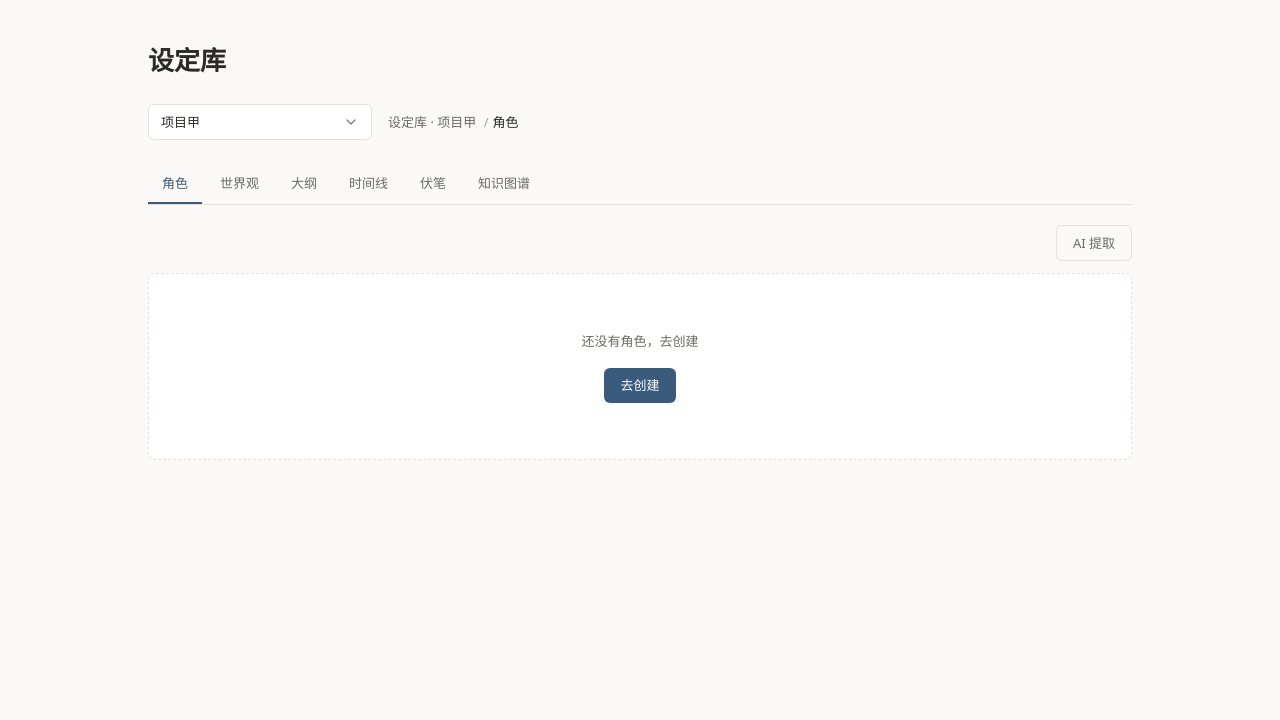
Test: 地图工作台修复契约（#973 快照刷新 / #978 删除钮重叠 / #979 pin 标签与点击） › P1【R】画布 pin 可见 label 文本 + pointer-events-auto（现状图标-only + pointer-events-none）
Click the tab "世界观".
click(240, 184)  # box [206, 164, 273, 204]
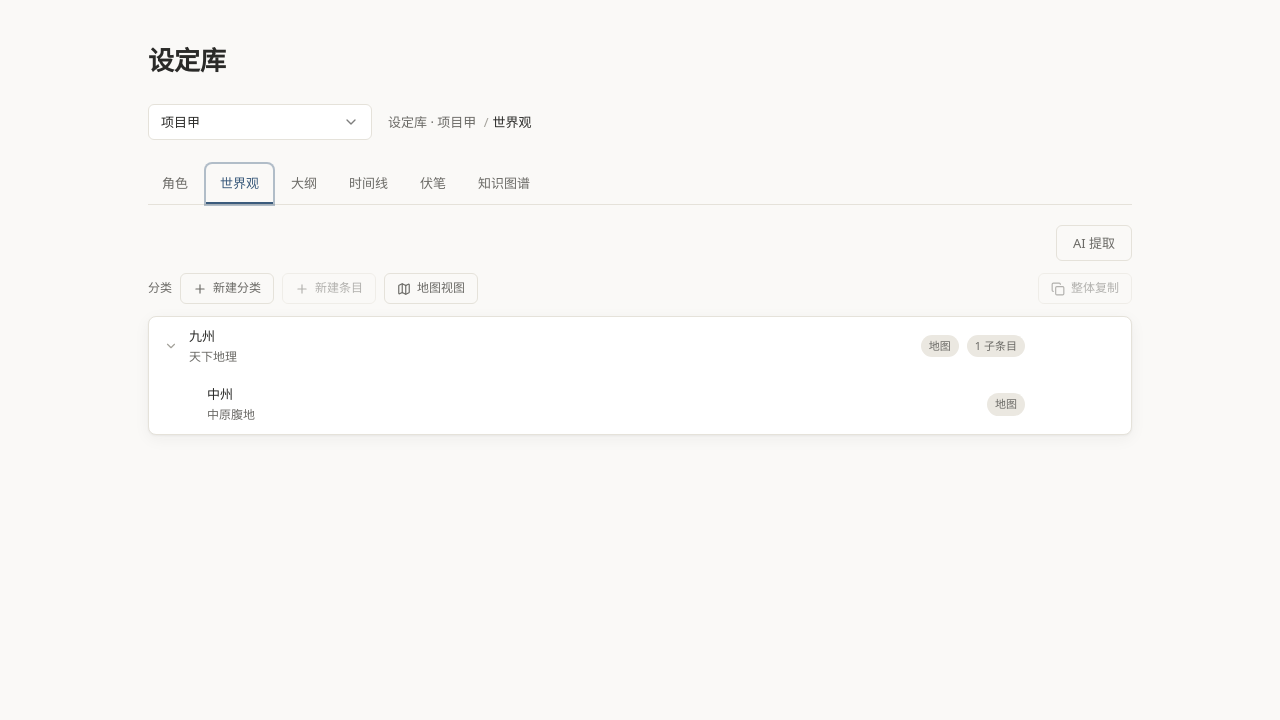
Now the element with test id "library-list" is shown, box [148, 316, 1132, 435]
Click the button with test id "map-view-entry".
click(431, 289)  # box [384, 273, 478, 304]
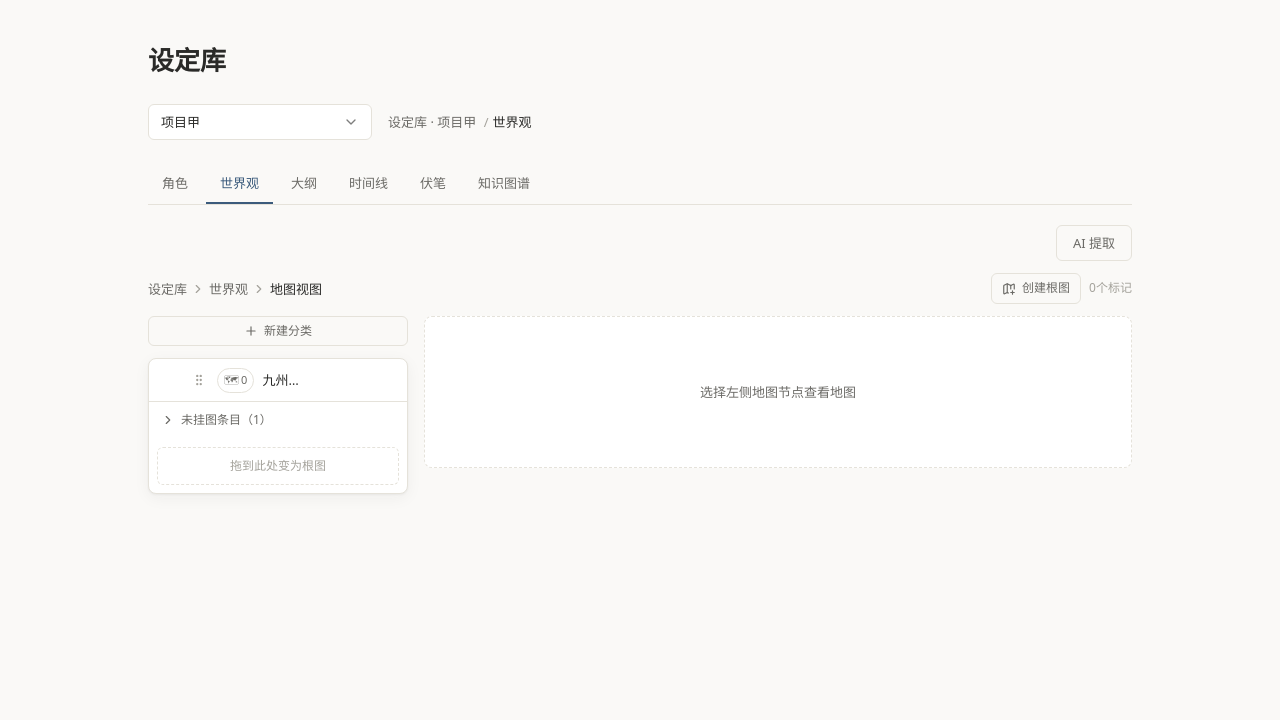
Now the element with test id "map-workbench" is shown, box [148, 273, 1132, 506]
Click the button with test id "world-map-badge-w1".
click(236, 380)  # box [217, 368, 254, 392]
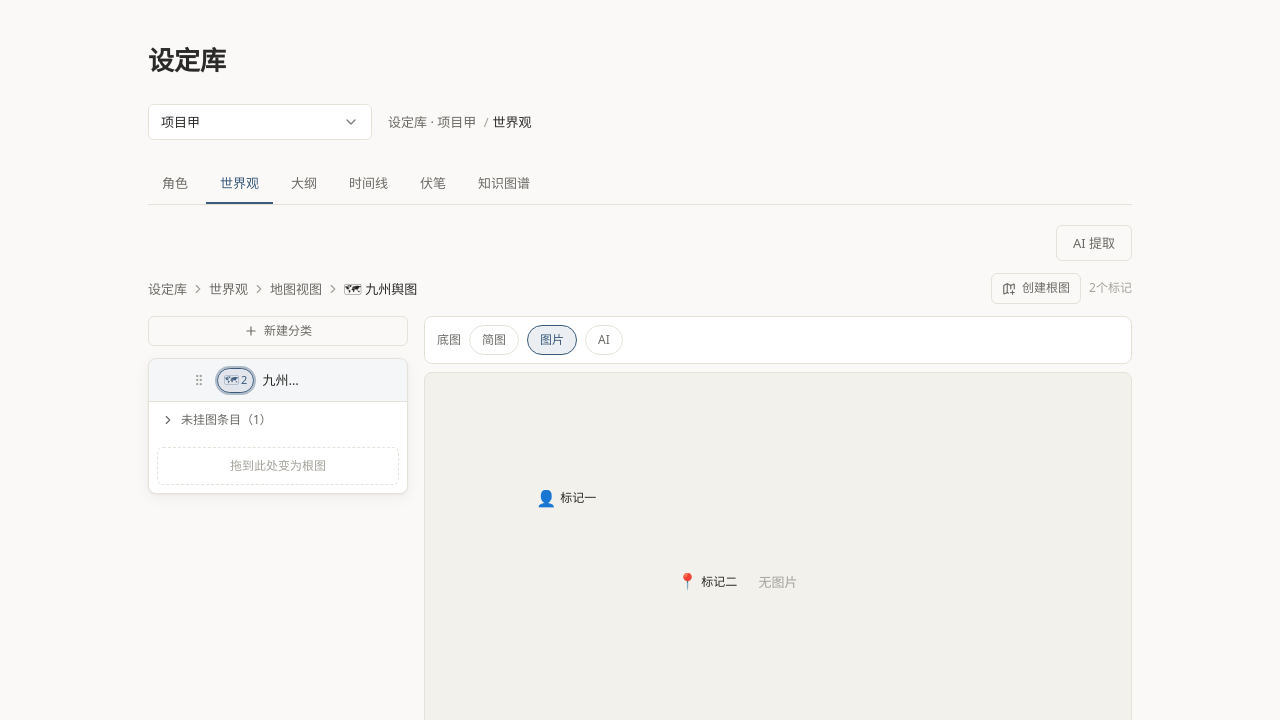
Now the element with test id "map-pin-p1" shows "标记一", box [560, 489, 596, 506]
